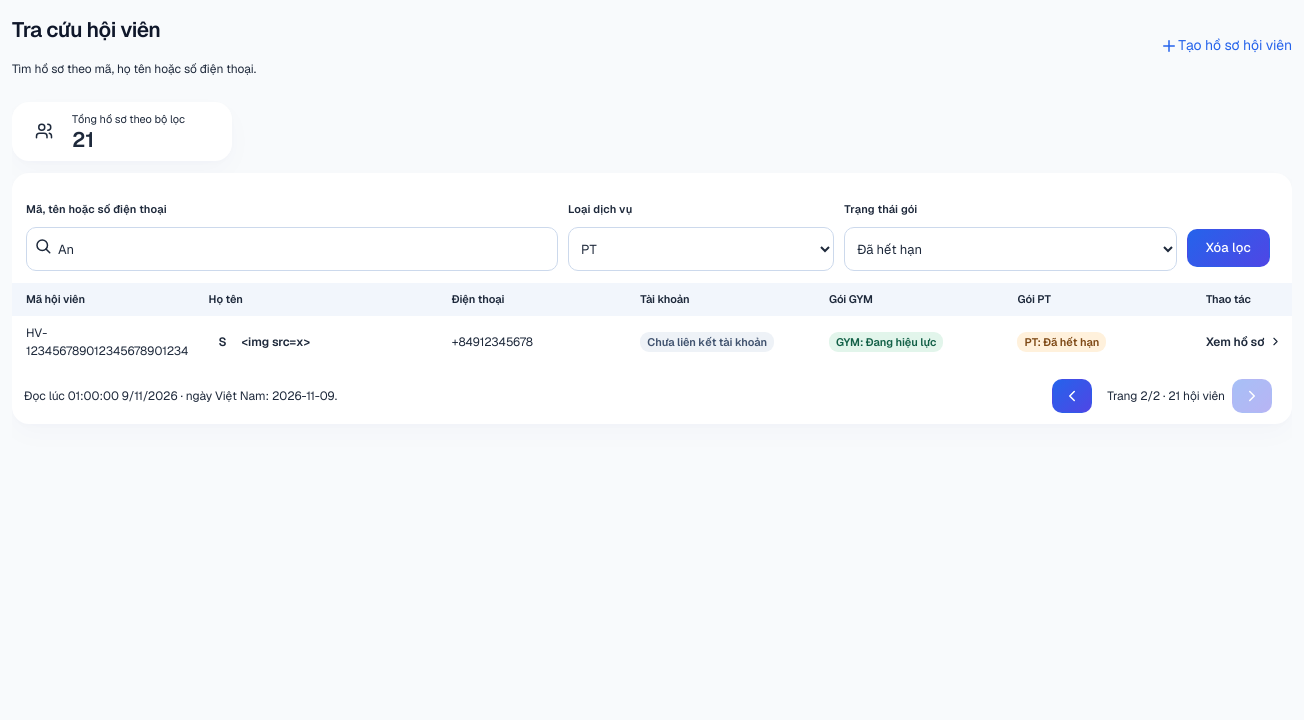
Test: US-11 TC14: list debounce, stale responses, pagination, error/retry and detail integration › returns from detail to the exact filtered list and page
What coordinates should you click on to do the following:
click the link "Xem hồ sơ"
I would click on:
 (1244, 342)
Its box is [1206, 334, 1282, 350].
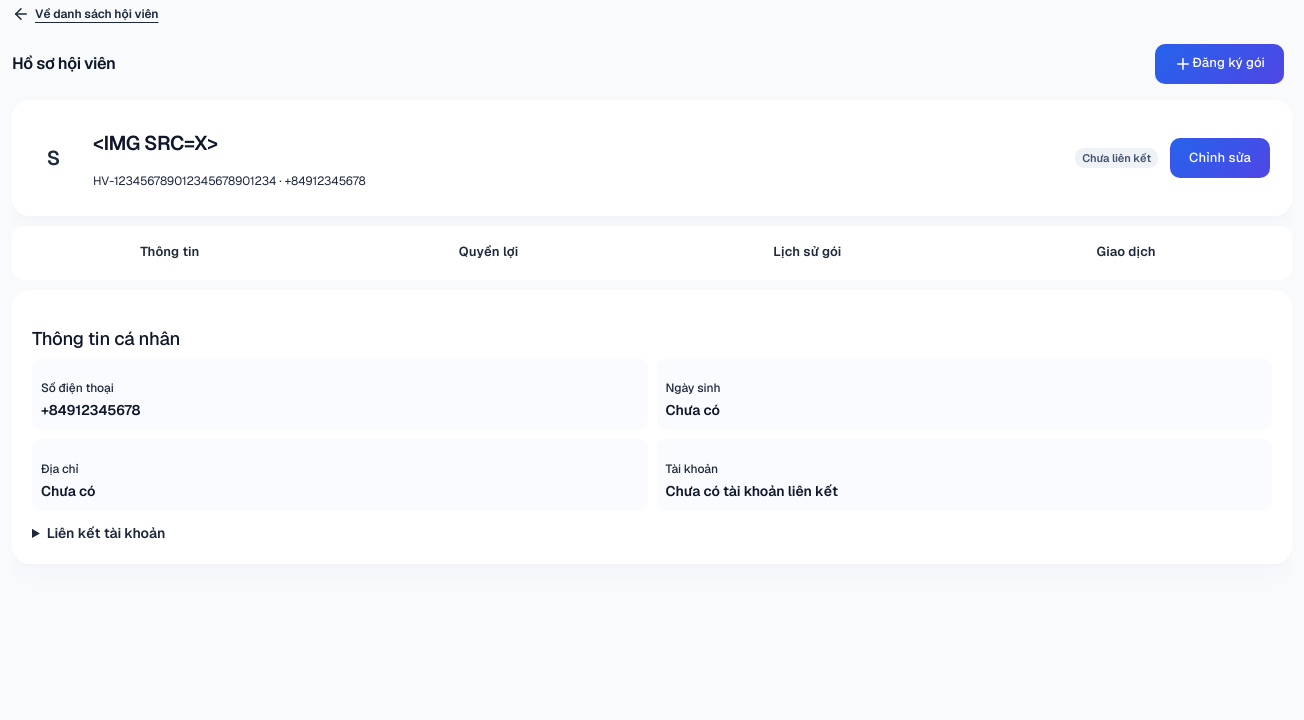
Check: the text "Chưa liên kết" is shown, box [1075, 148, 1158, 168]
What coordinates should you click on to do the following:
click the link "Về danh sách hội viên"
I would click on:
 (85, 14)
Its box is [12, 0, 158, 28].
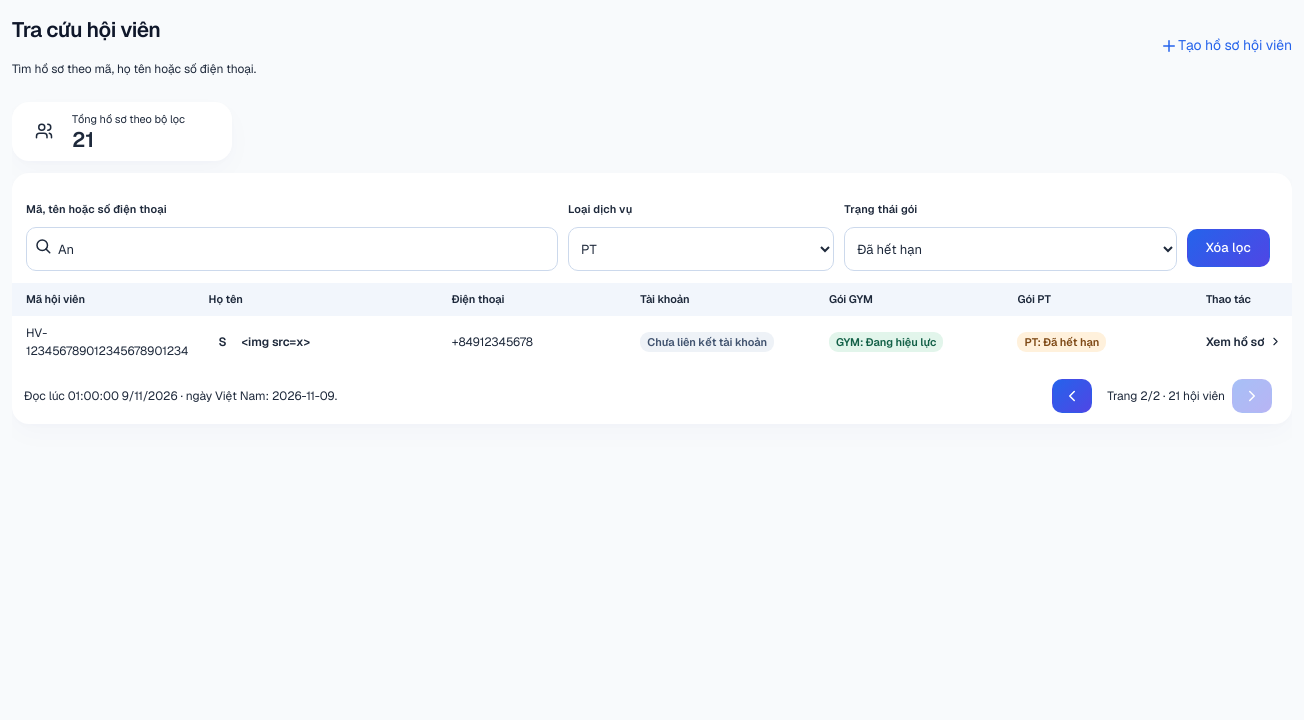
Check: the field labelled "Mã, tên hoặc số điện thoại" holds "An", box [26, 227, 558, 271]
